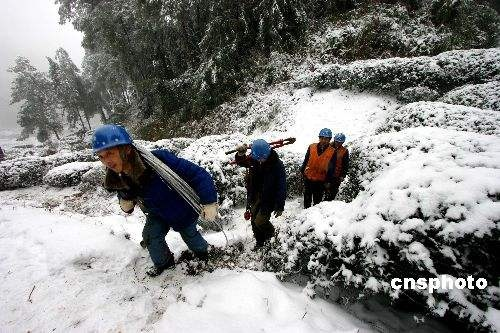blue: (89, 122, 137, 176), (250, 140, 270, 166), (316, 127, 333, 148), (332, 132, 346, 148)
